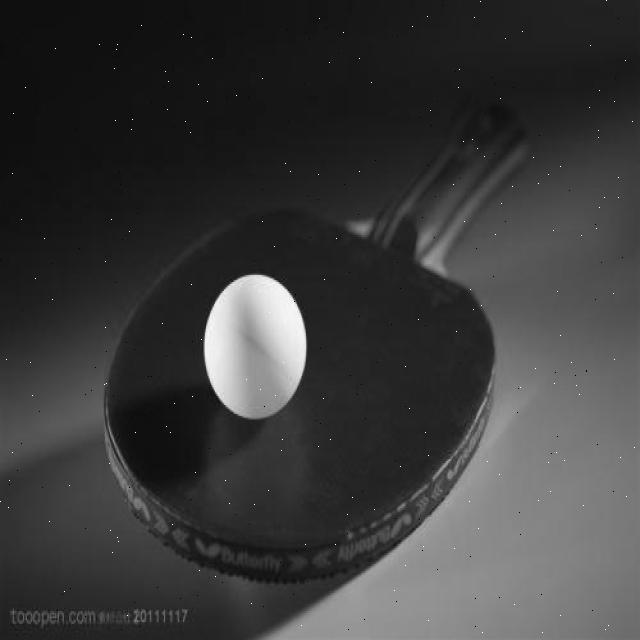ping-pong-ball: (197, 268, 310, 414)
